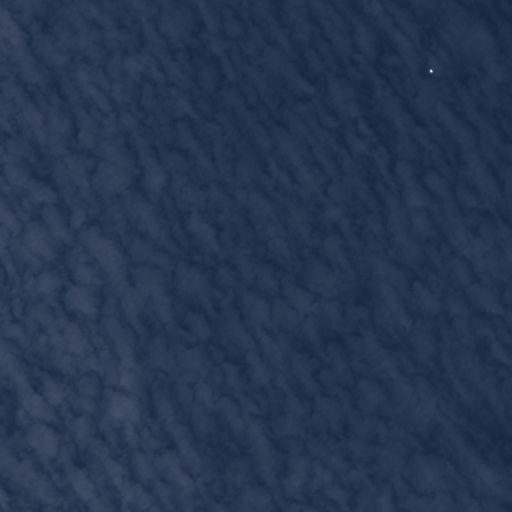Iceberg: (429, 69, 432, 72)
